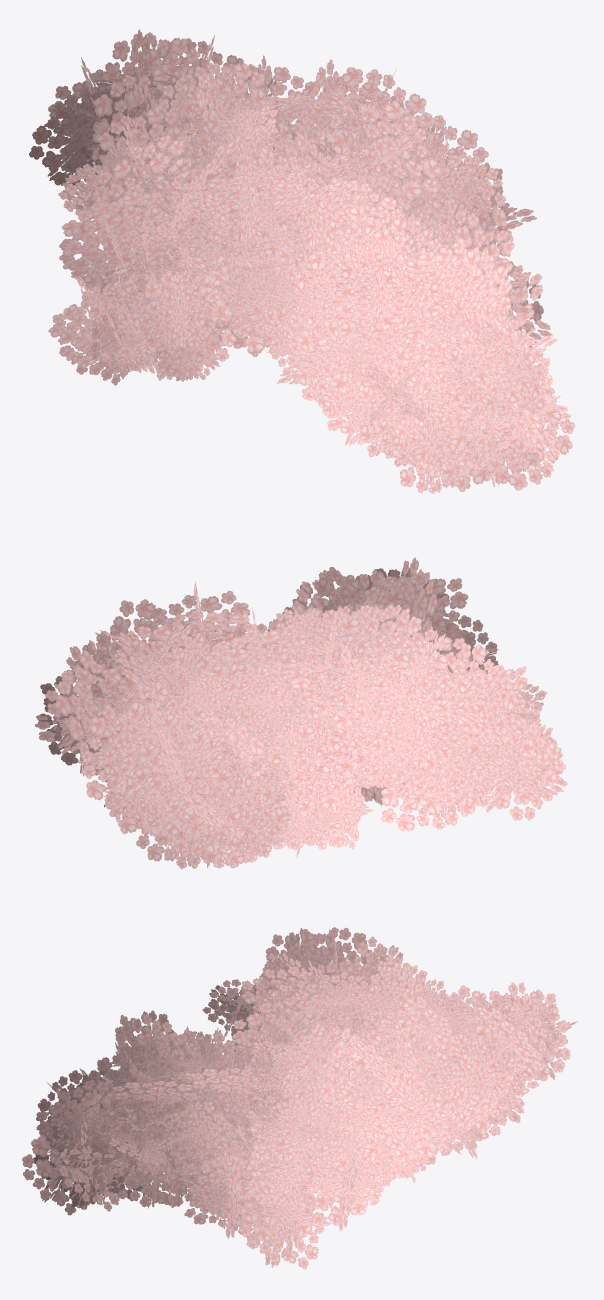
File: SM_SukuraB_Sakura.fbx
The picture shows the model from 3 angles, top to bottom: view 1: azimuth 30°, elevation 25°; view 2: azimuth 150°, elevation 25°; view 3: azimuth 270°, elevation 25°; orthographic projection. The views are drawn at different scales.
Visible parts, largest first — view 1: SM_SukuraB_Sakura; view 2: SM_SukuraB_Sakura; view 3: SM_SukuraB_Sakura.
Boxes of the visible parts, x1=… form: SM_SukuraB_Sakura: x1=29, y1=29, x2=575, y2=493; SM_SukuraB_Sakura: x1=35, y1=557, x2=567, y2=869; SM_SukuraB_Sakura: x1=22, y1=927, x2=577, y2=1269.
Bounding box in the file's own units: 12.29 × 7.38 × 15.28.
